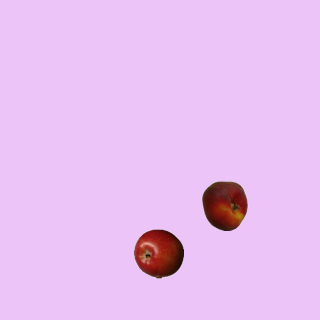Apple Braeburn: (133, 228, 183, 278)
Nectarine Flat: (199, 180, 249, 230)
